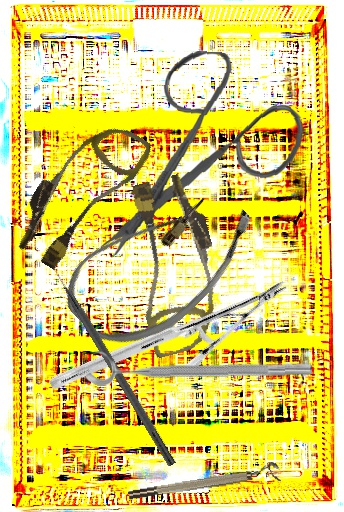Cannula: (51, 156, 269, 371), (5, 105, 155, 281), (112, 170, 237, 359)
Fixation Ring: (85, 344, 313, 386), (126, 460, 282, 503)
Hook Surgical: (46, 258, 179, 467)
Iris Scissors: (98, 44, 309, 272)
Needle Holder: (47, 205, 289, 465)
